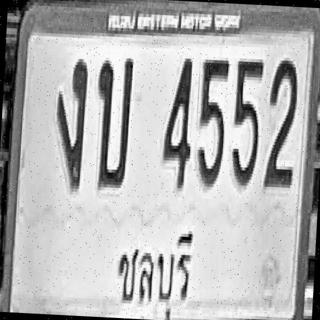A07: (52, 56, 88, 190)
A26: (92, 56, 134, 190)
N02: (263, 57, 299, 188)
N04: (160, 55, 195, 189)
N05: (195, 56, 229, 188), (230, 57, 263, 188)
P13: (112, 222, 194, 320)
